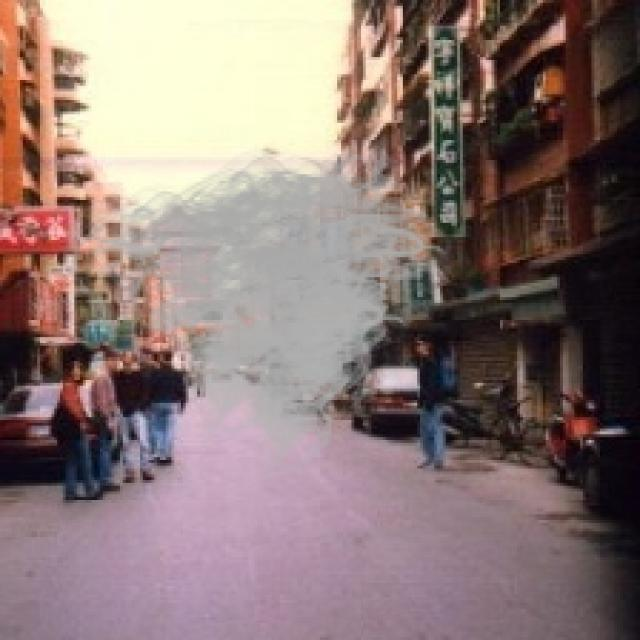Smoke: (57, 131, 463, 480)
